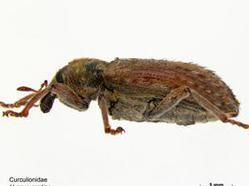weevils: (0, 28, 249, 163)
